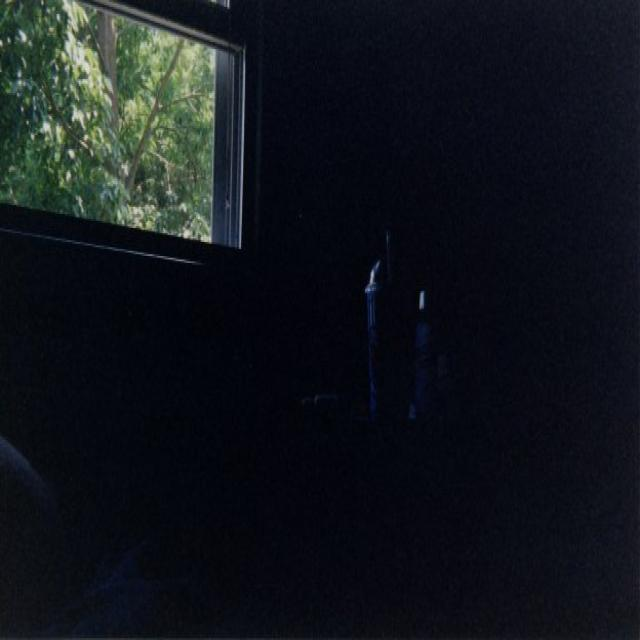Cup: (358, 222, 439, 451)
